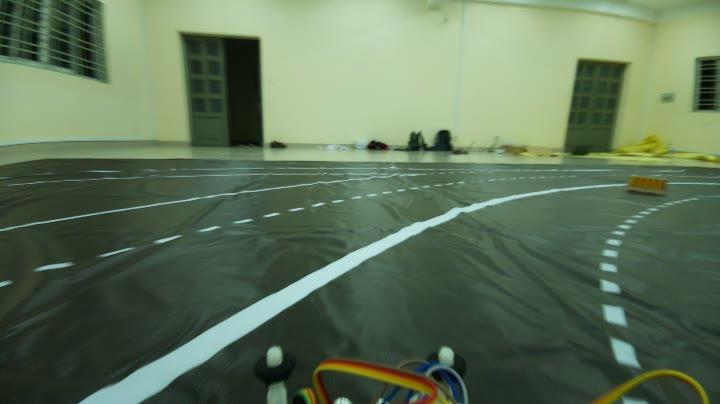roadblock: (623, 164, 677, 202)
